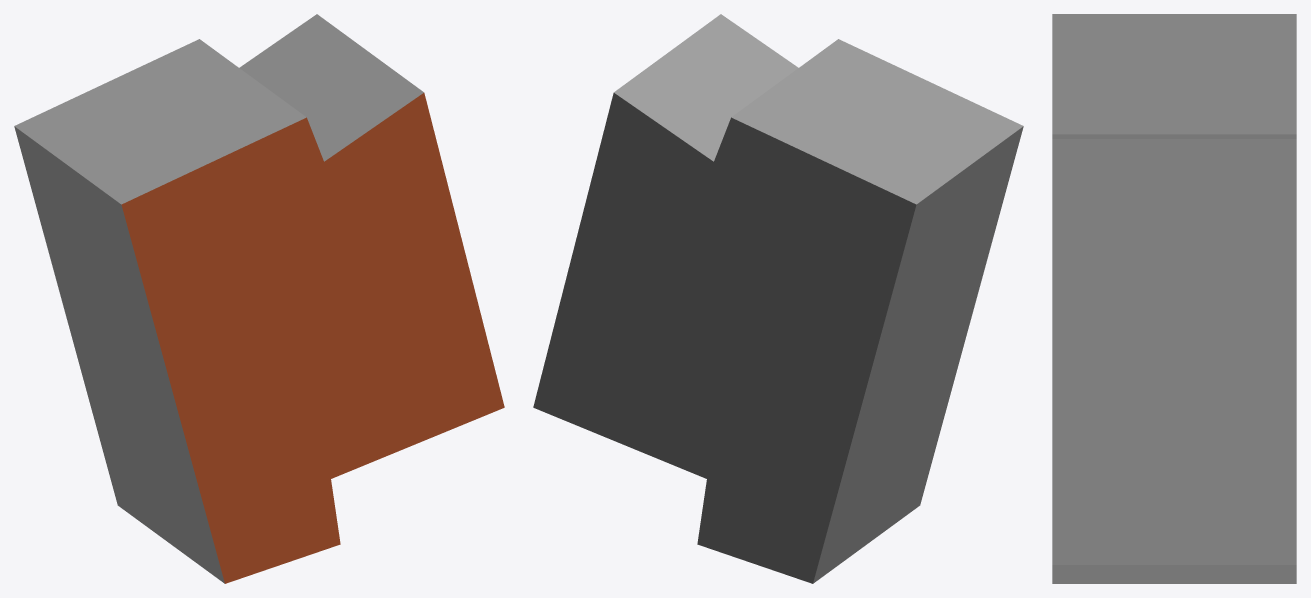
Rendered from construction_3397_assumed_A_Casa_h6m.obj.
3 renders of one model, left to right at view 1: azimuth 30°, elevation 25°; view 2: azimuth 150°, elevation 25°; view 3: azimuth 270°, elevation 25°, orthographic. The views are drawn at different scales.
Parts seen in each view (by area): view 1: construction_3397_assumed_A_Casa; view 2: construction_3397_assumed_A_Casa; view 3: construction_3397_assumed_A_Casa.
Part boxes in pixels (box(x1,y1,x2,y2)): construction_3397_assumed_A_Casa: box(14, 14, 504, 583); construction_3397_assumed_A_Casa: box(533, 14, 1023, 583); construction_3397_assumed_A_Casa: box(1052, 14, 1296, 583).
Size of the model in its own units: 12.38 by 13.78 by 6.
